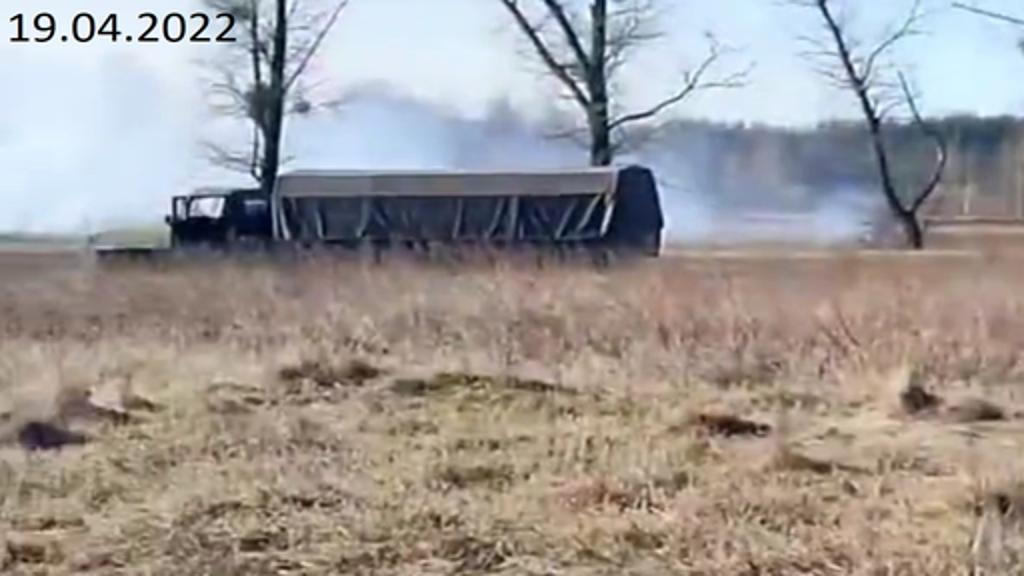TRUCK: (72, 150, 674, 298)
